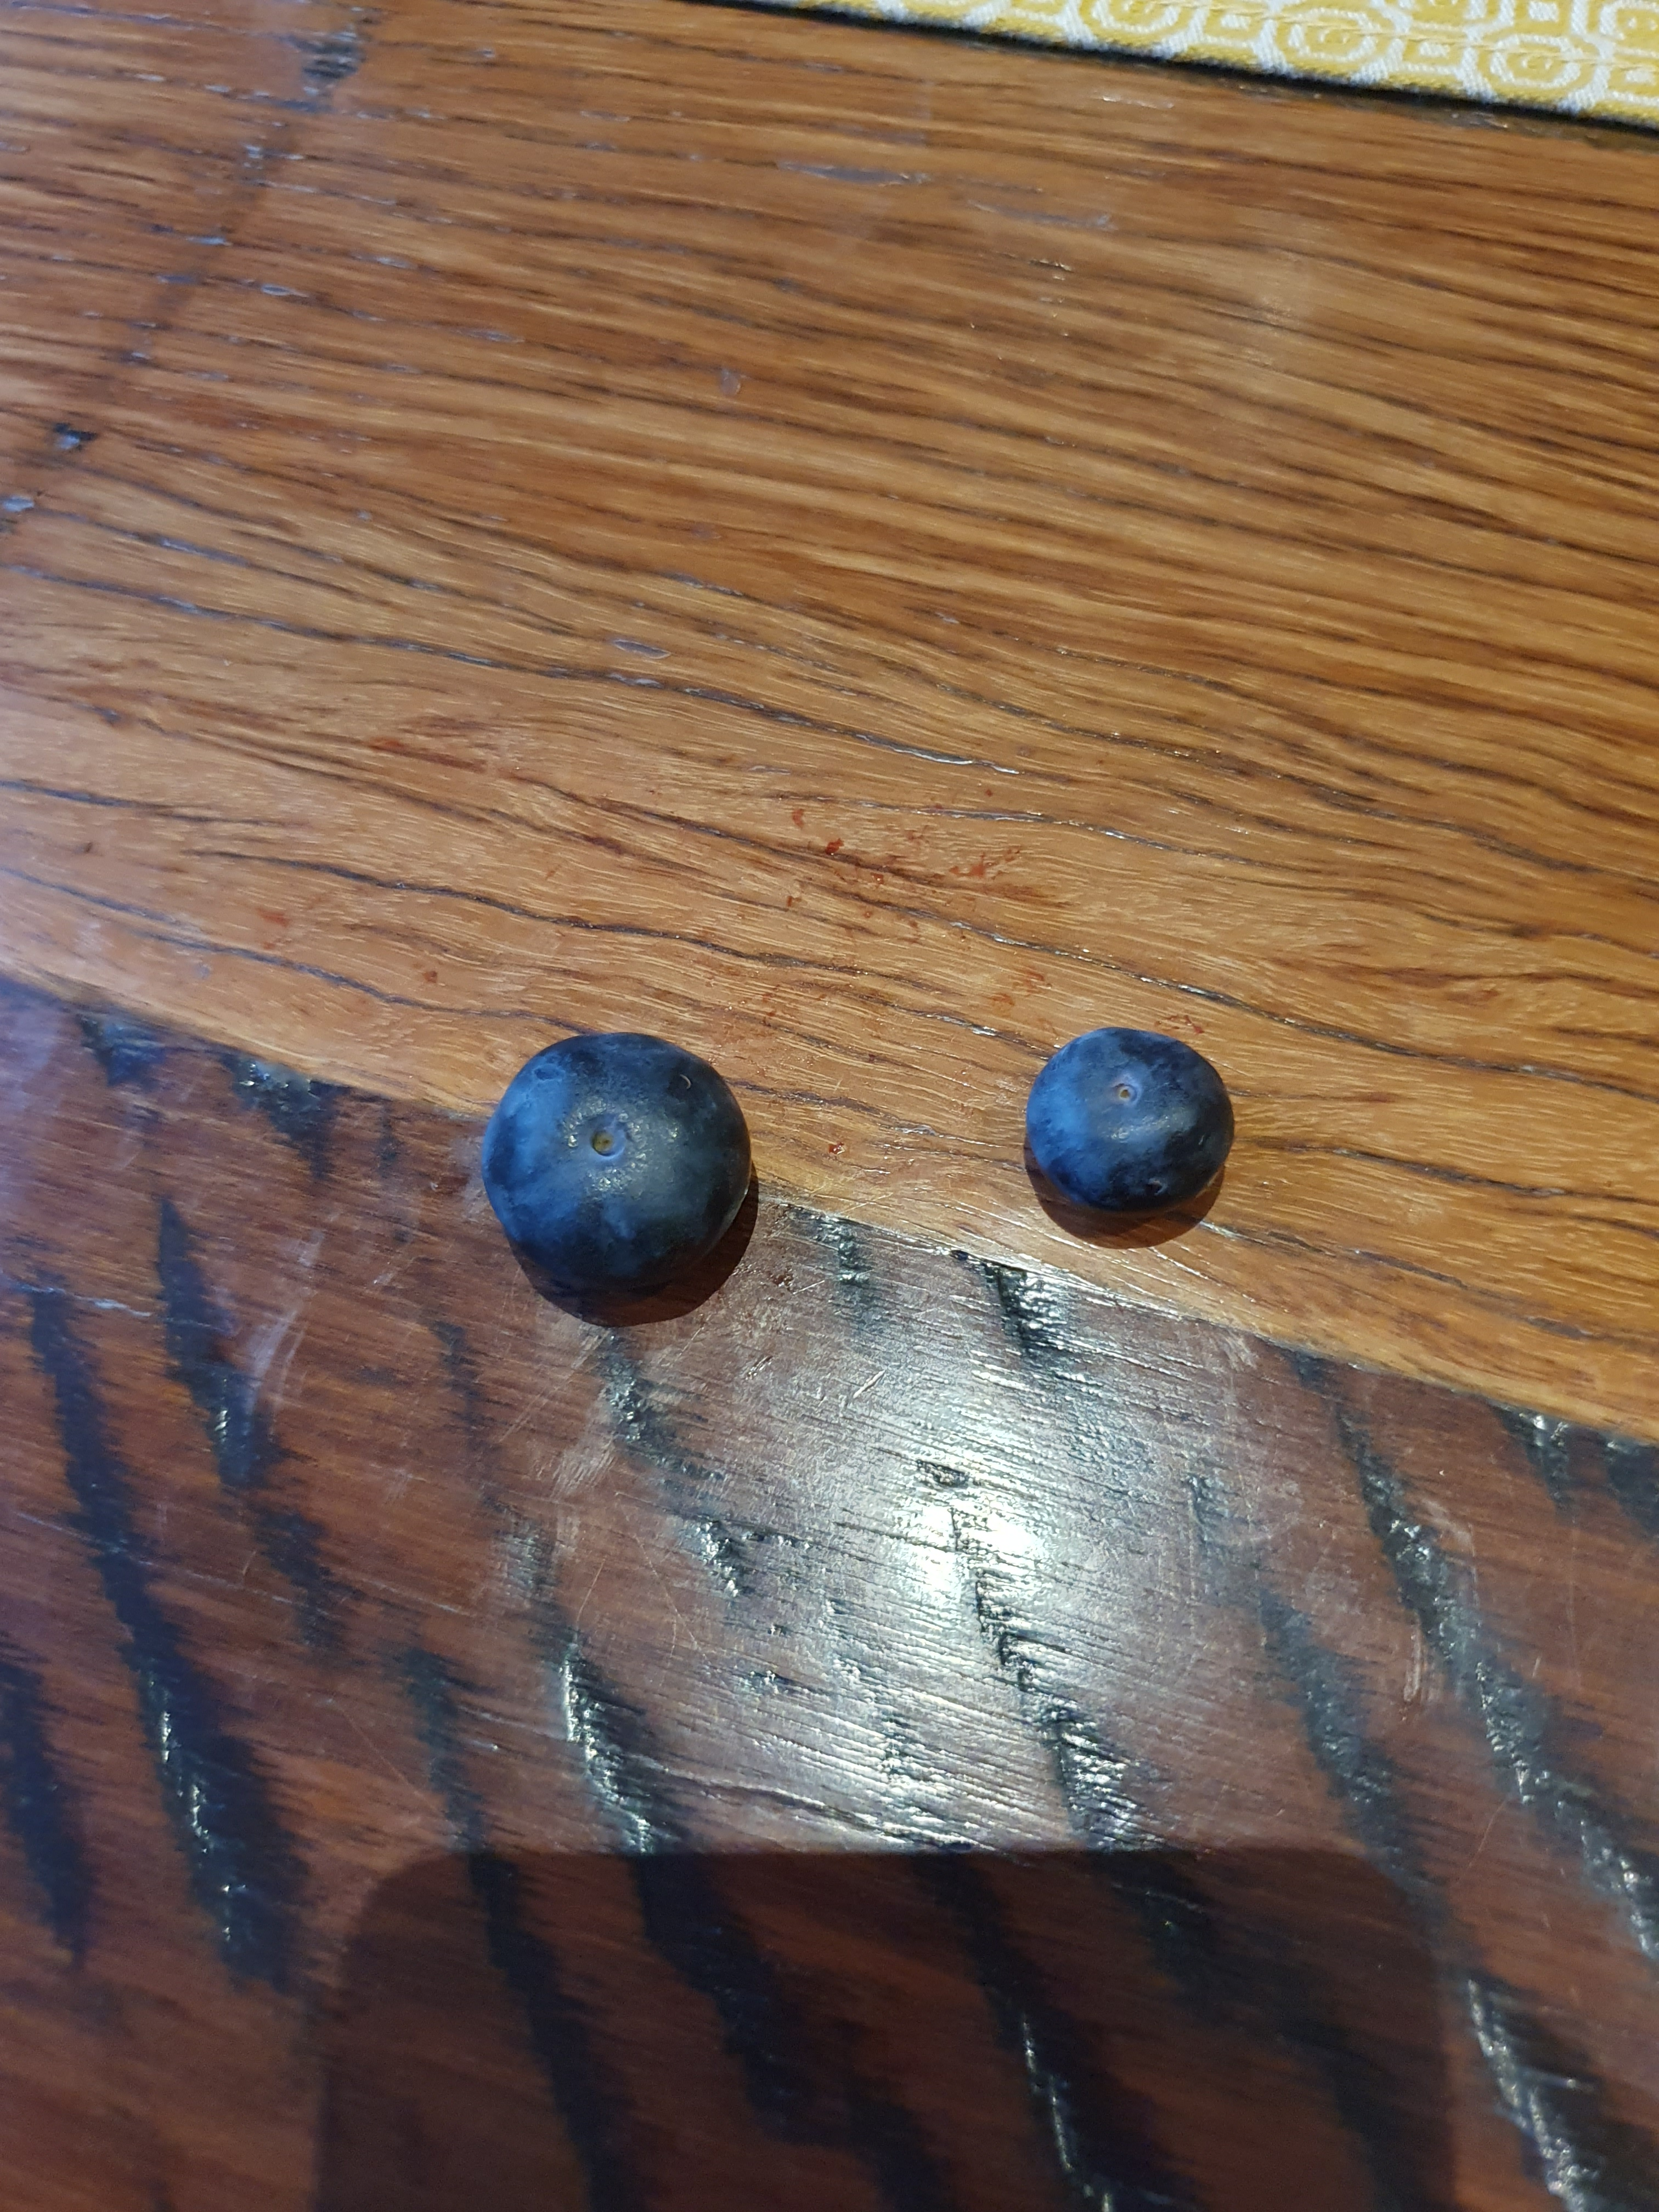blueberry: (436, 986, 781, 1324), (1007, 979, 1262, 1247)
